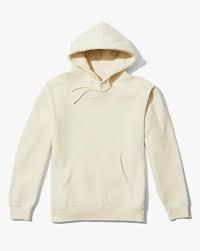hoodie: (6, 16, 196, 235)
